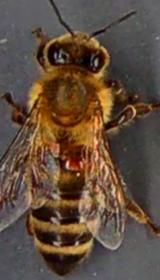varroa_mite: (62, 153, 84, 173)
